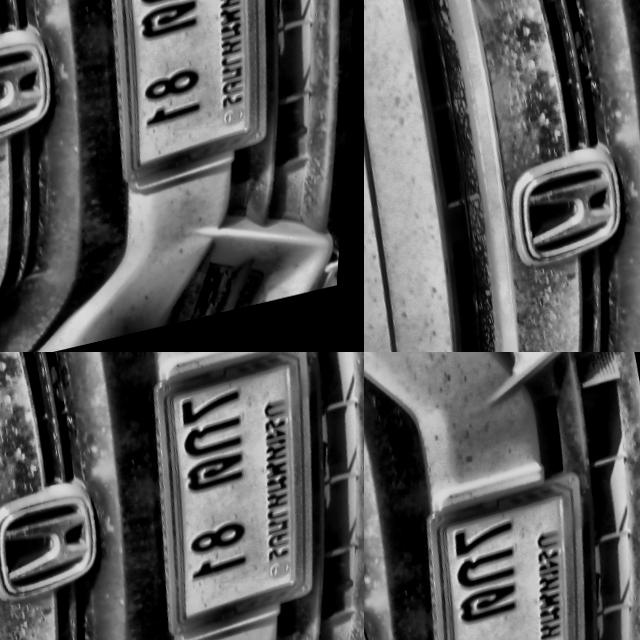license-plate: (383, 463, 640, 640)
